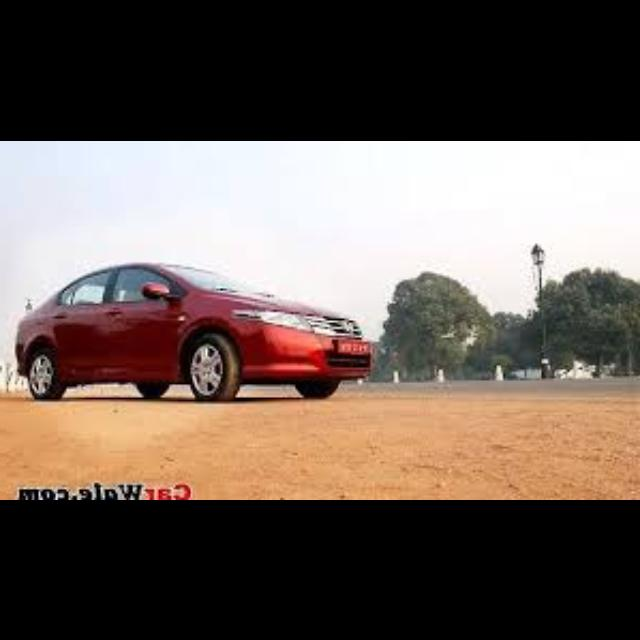vehicles: (4, 258, 383, 410)
